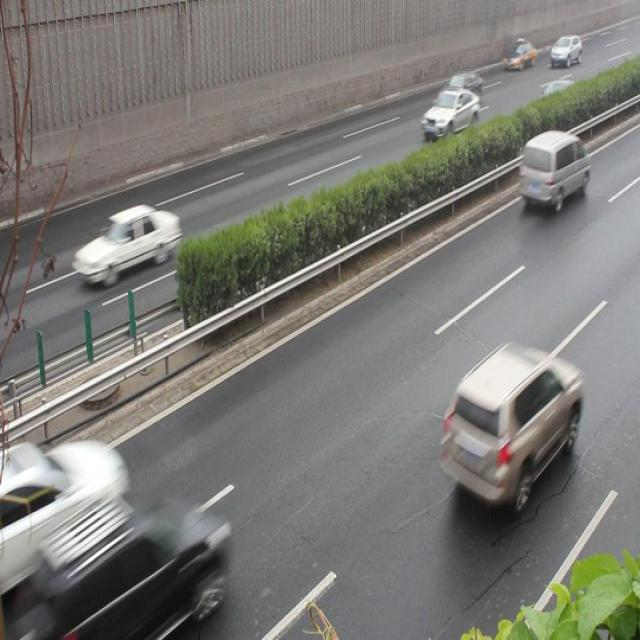car: (63, 495, 221, 639), (441, 339, 577, 505), (0, 438, 125, 572), (72, 202, 179, 284), (420, 85, 476, 140), (438, 68, 478, 100)
